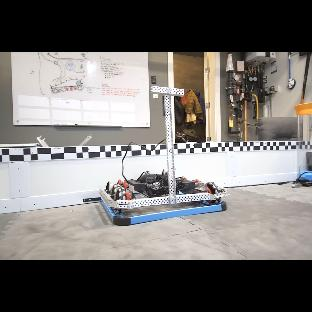Loader: (294, 103, 312, 182)
Parking - B: (101, 199, 226, 226)
Robot: (99, 86, 229, 217)
Robot_Parked: (100, 86, 229, 226)
V5_BLUE: (300, 171, 312, 182)
